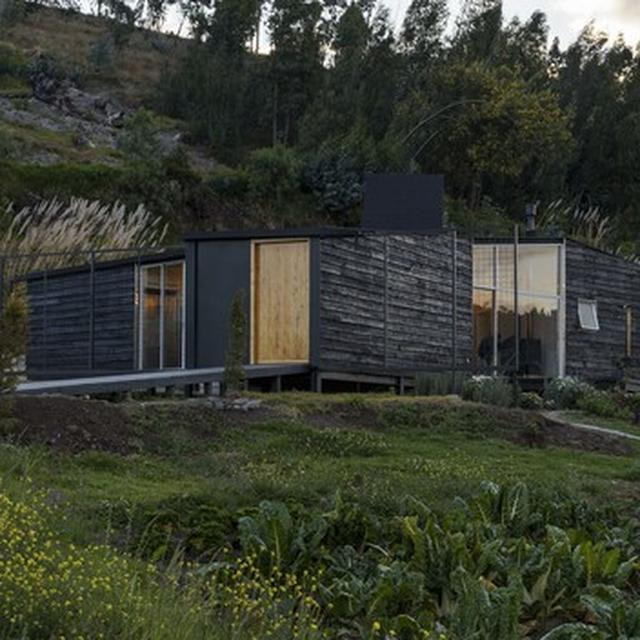building: (26, 164, 640, 418)
